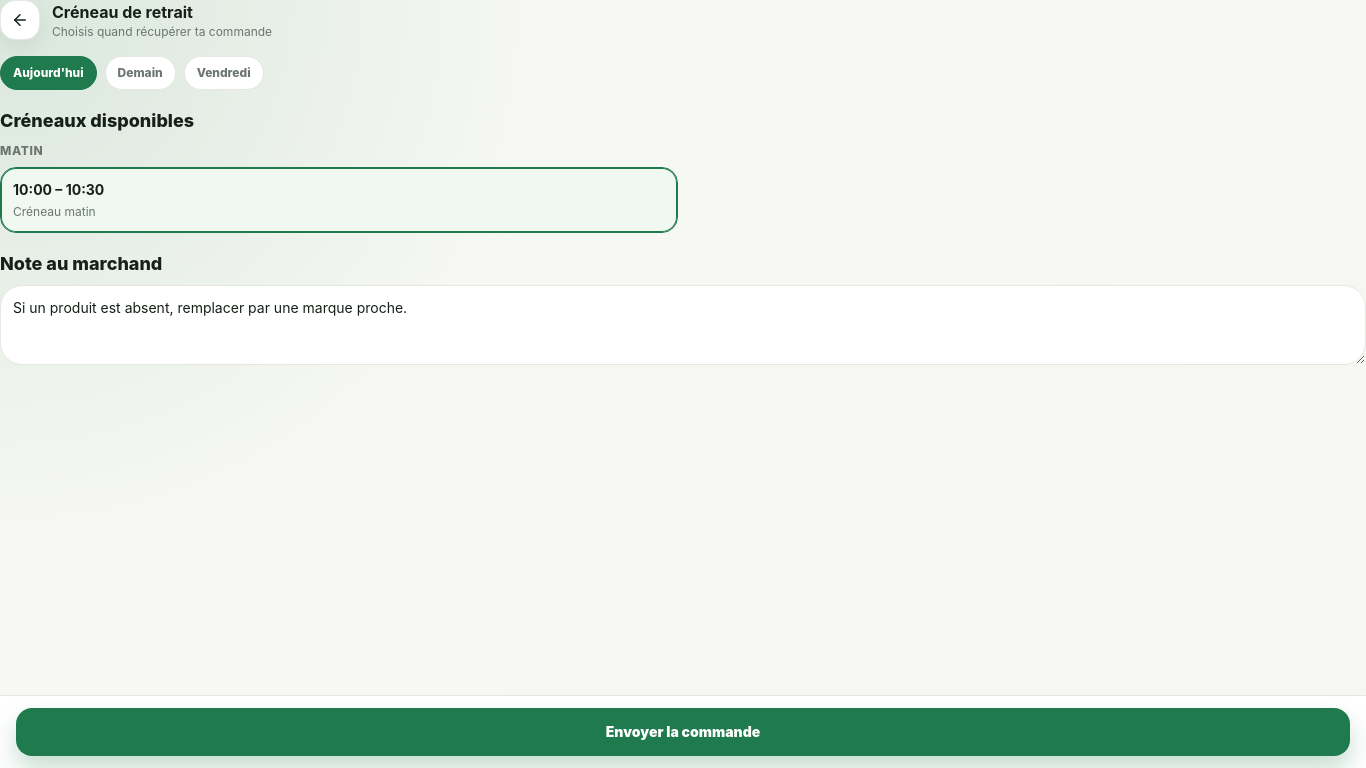
Test: SlotPage (S14-004) › affiche l'expiration d'une acceptation partielle sans message générique
Click the button "Envoyer la commande": (683,732) [16,708,1350,756]
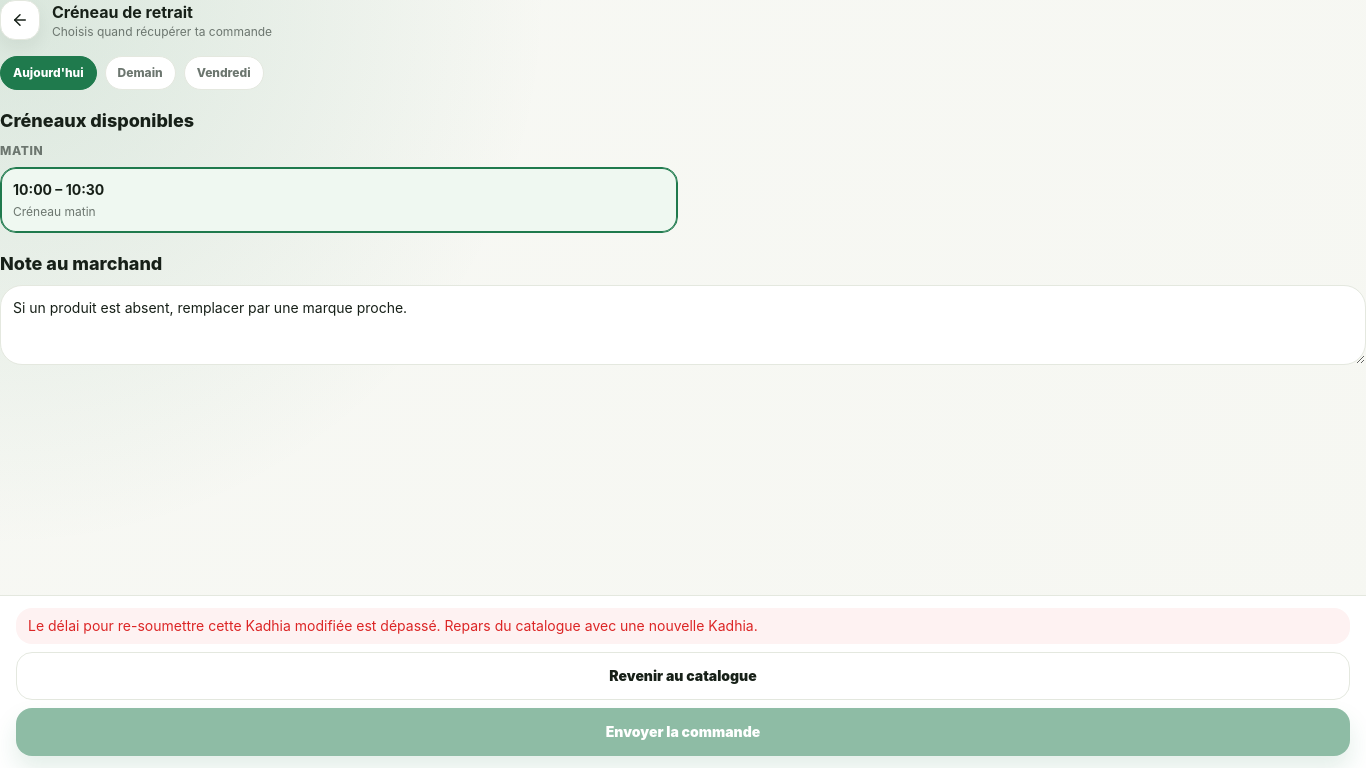
Result: the text "Le délai pour re-soumettre cette Kadhia modifiée est dépassé. Repars du catalogue avec une nouvelle Kadhia." is shown at [28,617,758,634]
Result: the button "Revenir au catalogue" is shown at [16,652,1350,700]
Result: the button "Envoyer la commande" is disabled at [16,708,1350,756]
